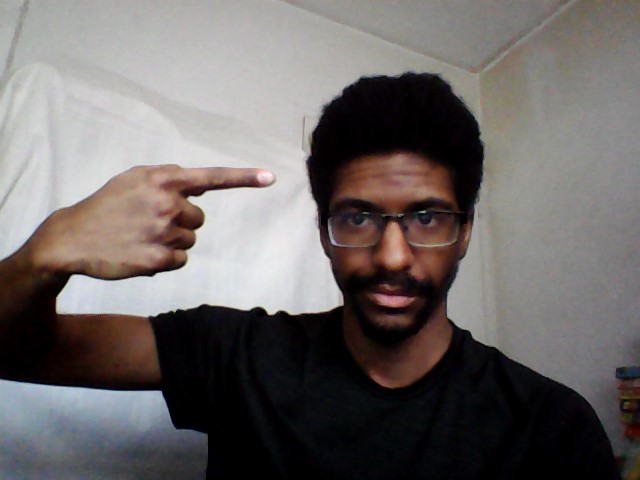g: (56, 160, 278, 286)
